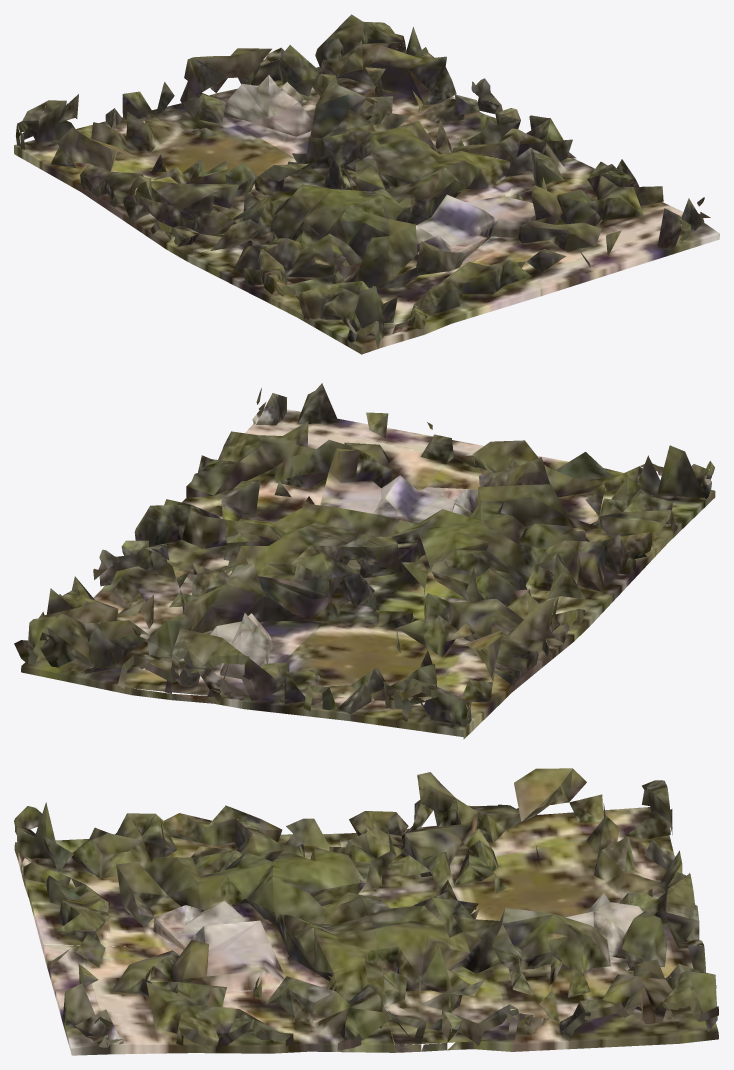
The picture shows the model from 3 angles, top to bottom: view 1: azimuth 30°, elevation 25°; view 2: azimuth 150°, elevation 25°; view 3: azimuth 270°, elevation 25°; orthographic projection. The views are drawn at different scales.
Parts seen in each view (by area): view 1: Mesh_0; view 2: Mesh_0; view 3: Mesh_0.
Part boxes in pixels (x1,y1,x2,y2): Mesh_0: (14, 14, 719, 354); Mesh_0: (14, 383, 715, 739); Mesh_0: (14, 768, 718, 1055).
Size of the model in its own units: 266 by 38.69 by 330.
Materials: 2 (2 with a texture image).
